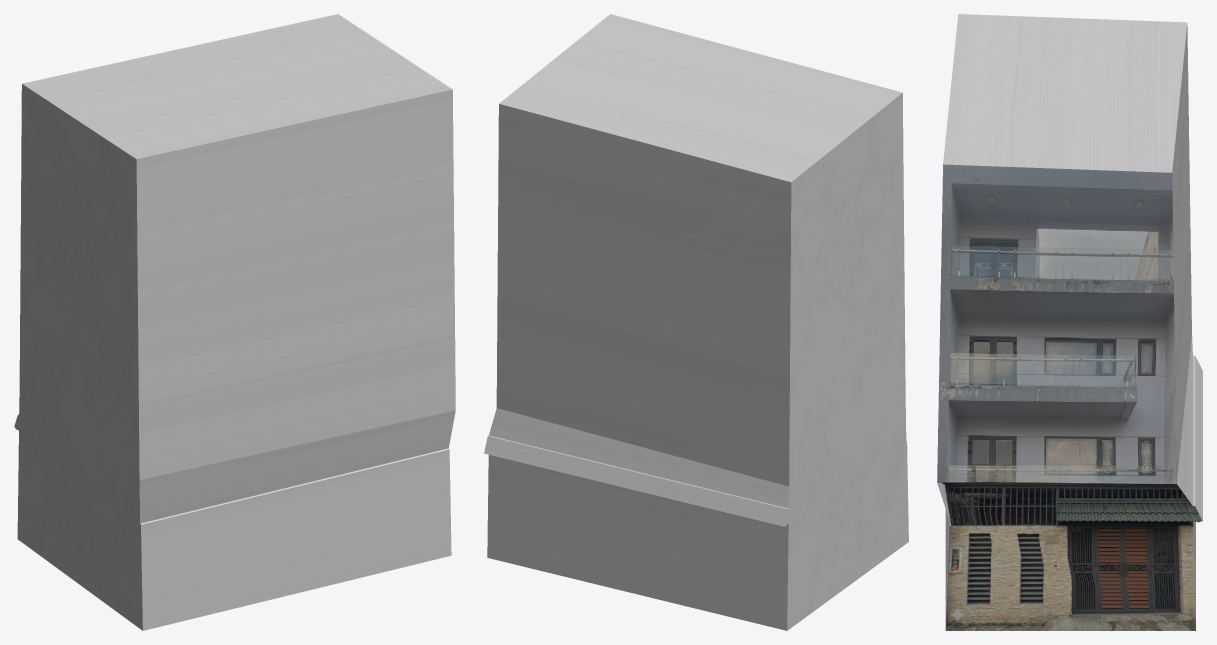
Rendered from RefHouse17.fbx.
The picture shows the model from 3 angles, left to right: view 1: azimuth 30°, elevation 25°; view 2: azimuth 150°, elevation 25°; view 3: azimuth 270°, elevation 25°; orthographic projection. The views are drawn at different scales.
Visible parts, largest first — view 1: ReferenceHouse17; view 2: ReferenceHouse17; view 3: ReferenceHouse17.
Part boxes in pixels (x1=…): ReferenceHouse17: x1=14, y1=14, x2=455, y2=630; ReferenceHouse17: x1=484, y1=14, x2=908, y2=630; ReferenceHouse17: x1=937, y1=14, x2=1202, y2=630.
Bounding box in the file's own units: 969 × 1401 × 723.
Materials: 2 (2 with a texture image).
